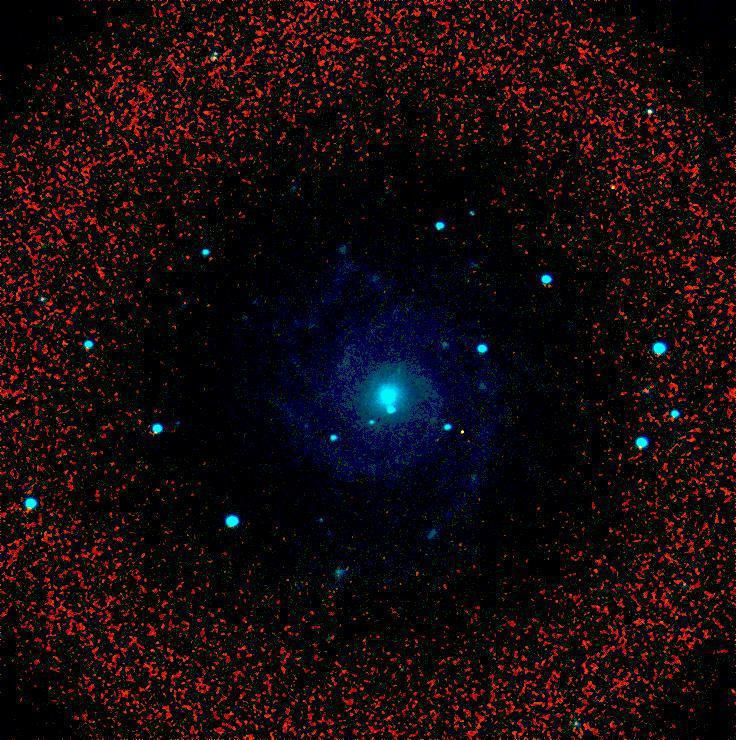star: (446, 417, 476, 447)
